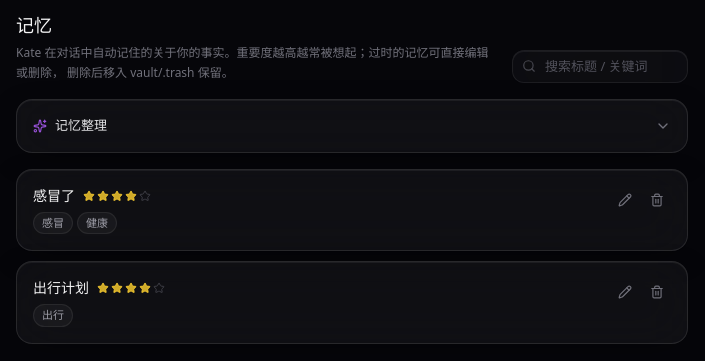
Test: MemoriesPage › 搜索按标题与关键词过滤
The image size is (705, 361).
Expected: the text "出行计划" is shown, [33,278,89,298]
Type "感冒" into the field with placeholder "搜索标题 / 关键词".
click(600, 66); type("感冒")  # box [512,50,688,83]
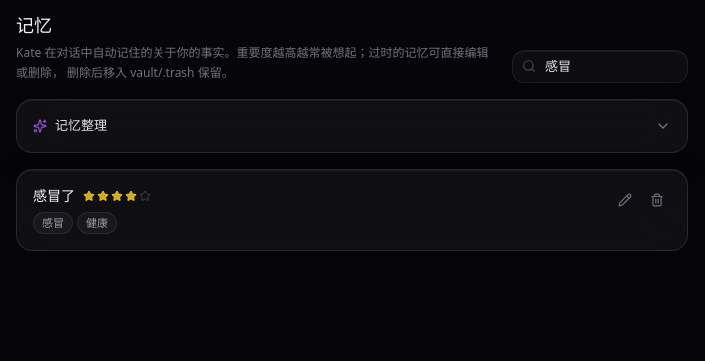
Expected: the text "感冒了" is shown, [33,186,75,206]
Now the text "出行计划" is gone
